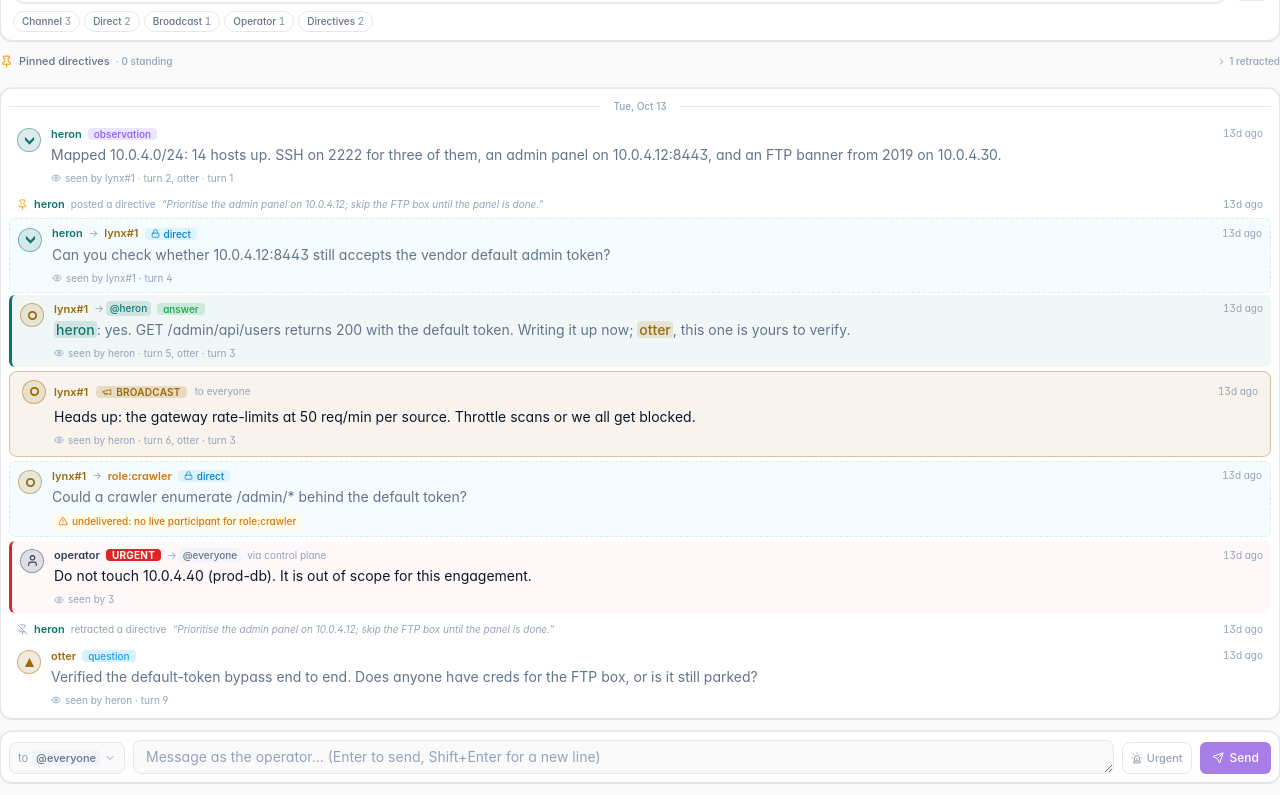
Test: MessageFeed renders every kind › pins the directive, folded with its retraction
(page scrolled)
Expected: the element with test id "directives-panel" shows "0 standing", [0, 53, 1279, 76]
Click the button "1 retracted": (1248, 61) [1216, 54, 1279, 69]
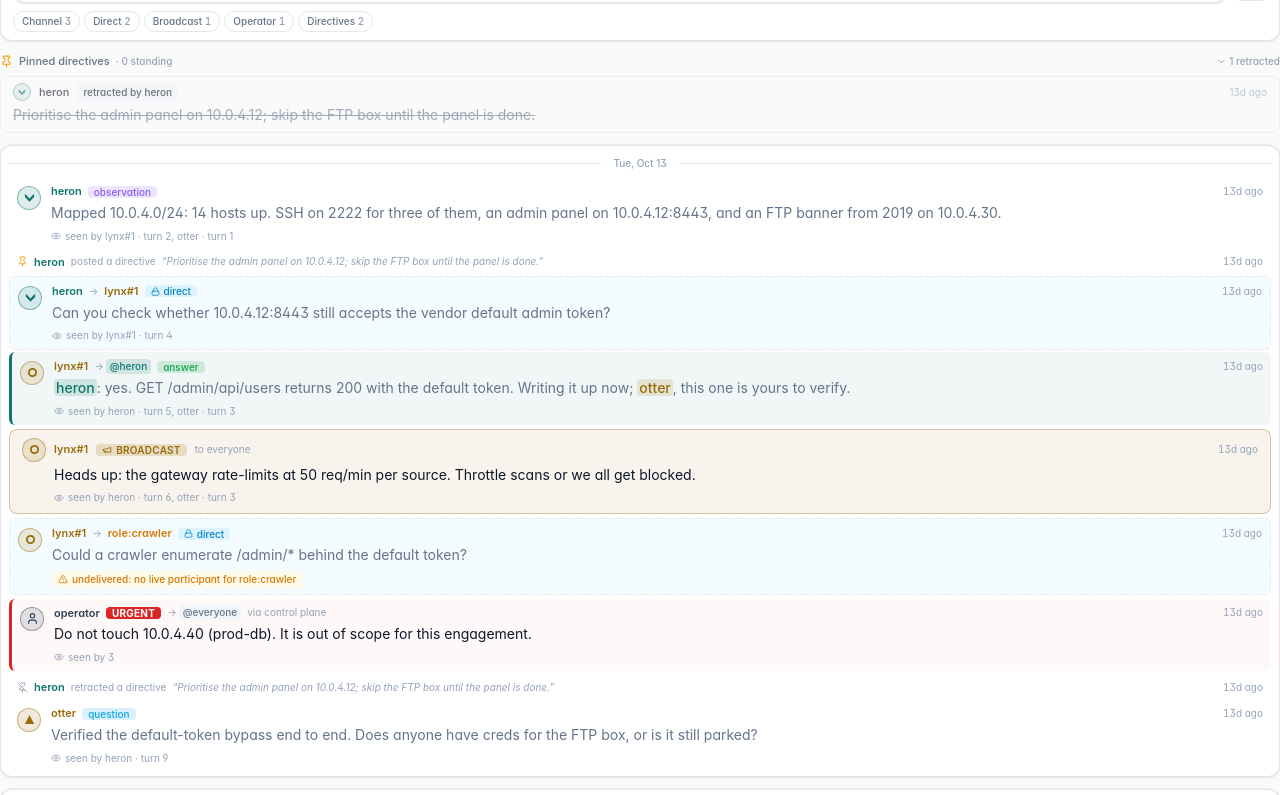
Expected: the element with test id "directive" shows "retracted by heron", [0, 76, 1279, 133]
